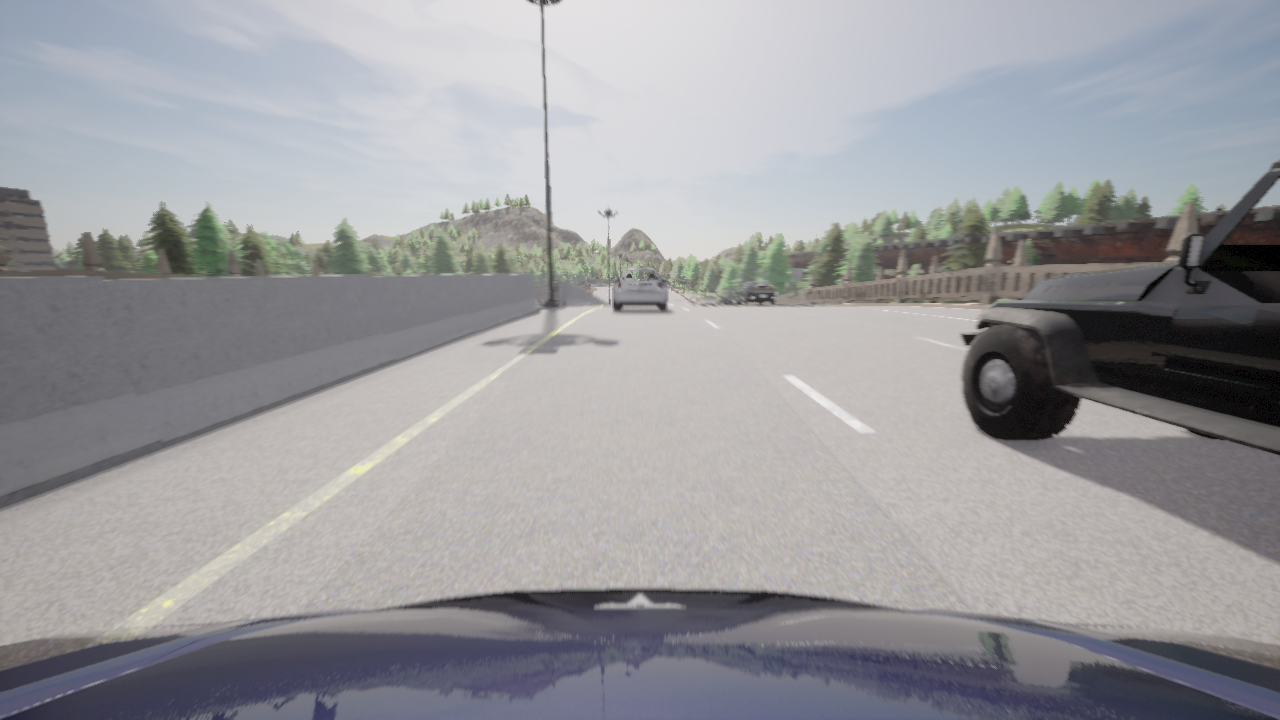cyclist: (0, 588, 1279, 719), (960, 160, 1279, 456), (612, 269, 666, 311), (733, 281, 775, 305), (715, 290, 742, 305), (695, 298, 715, 305)
